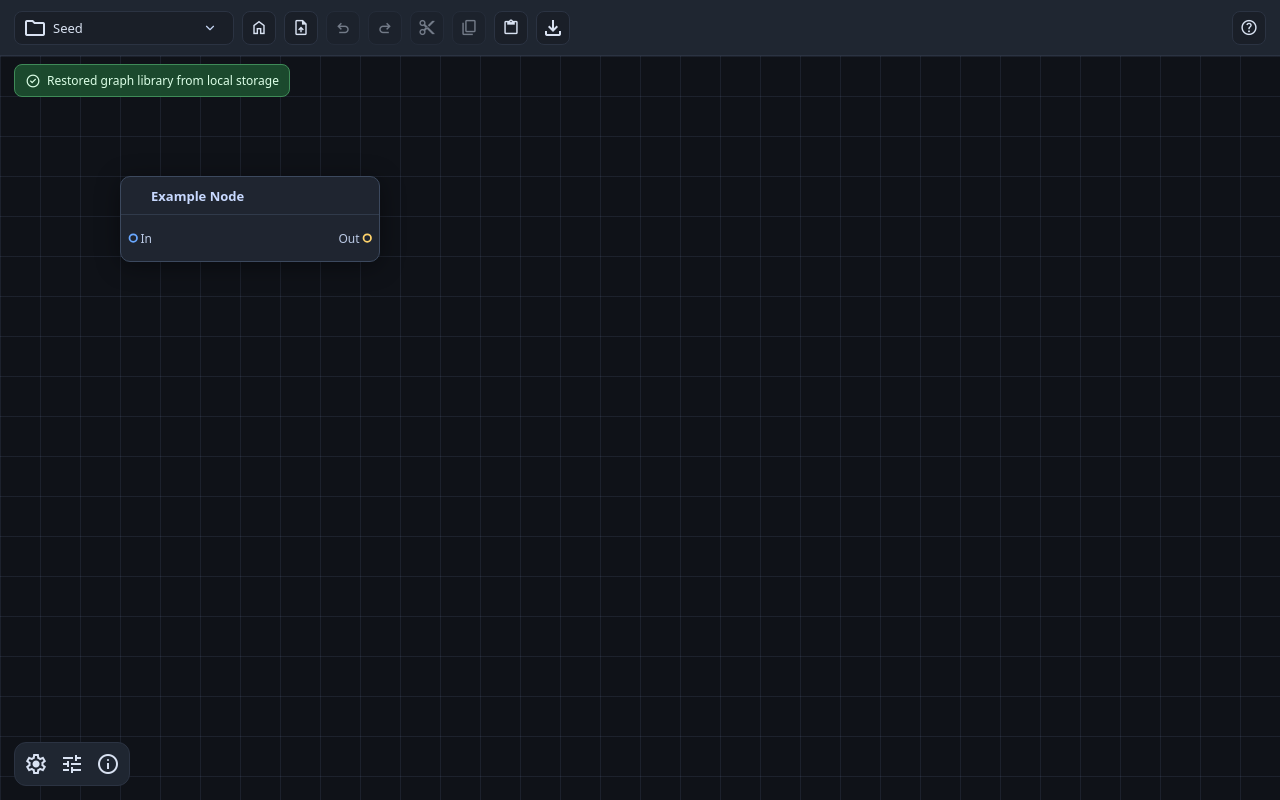
Test: Node picker › filters and places selected preset
Press the mouse on the element with class "canvas-root": x=640, y=428 [0,56,1279,799]
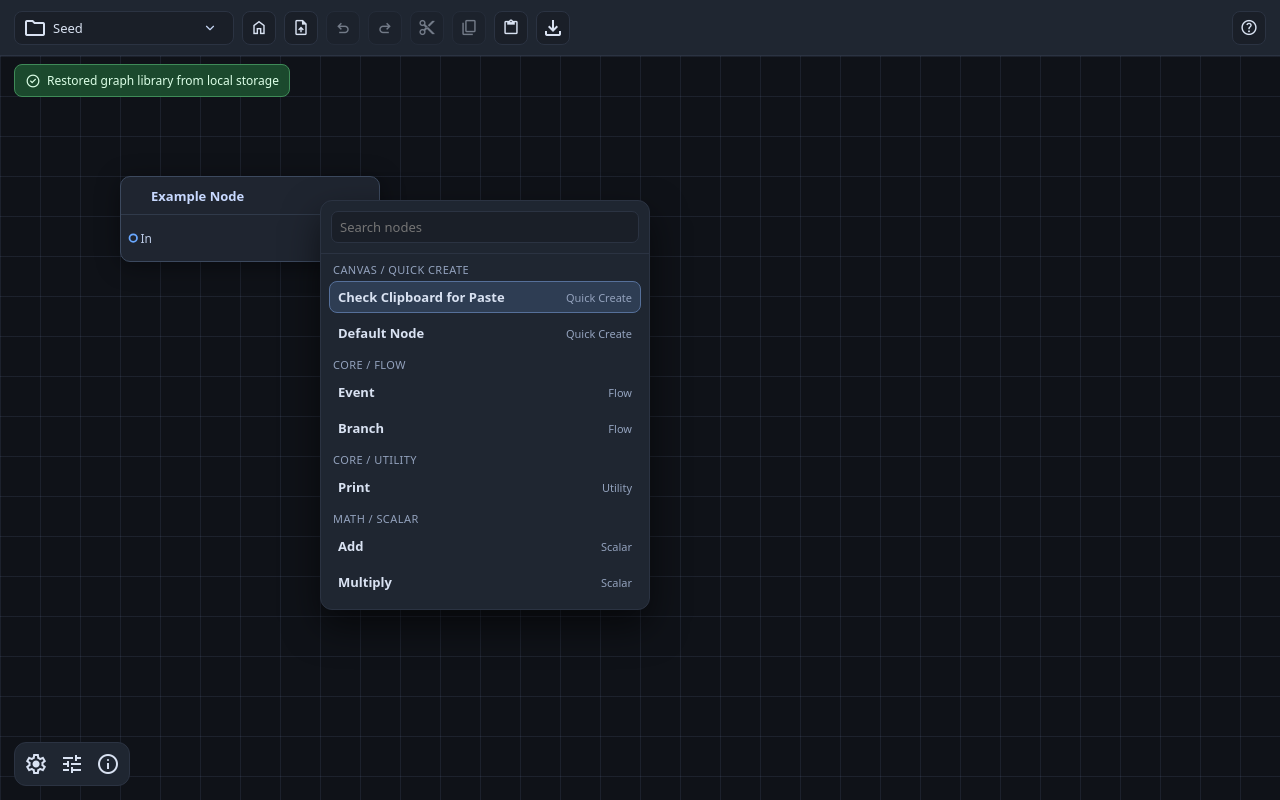
Now the dialog with class "node-picker" is shown, box [320,200,650,610]
In the field labelled "Search nodes": x=485, y=227 [331,211,639,243], type "multiply"
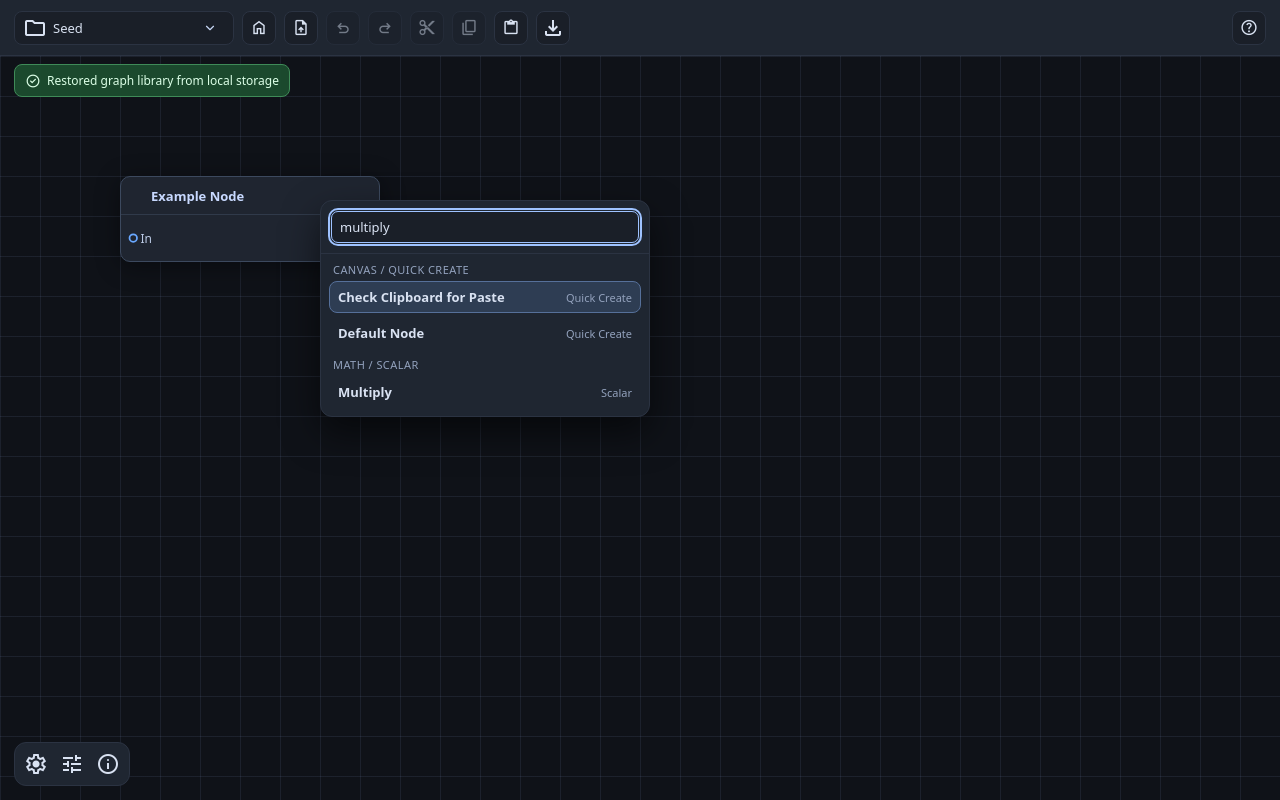
Click the option "Multiply Scalar": x=365, y=392 [329,376,641,408]
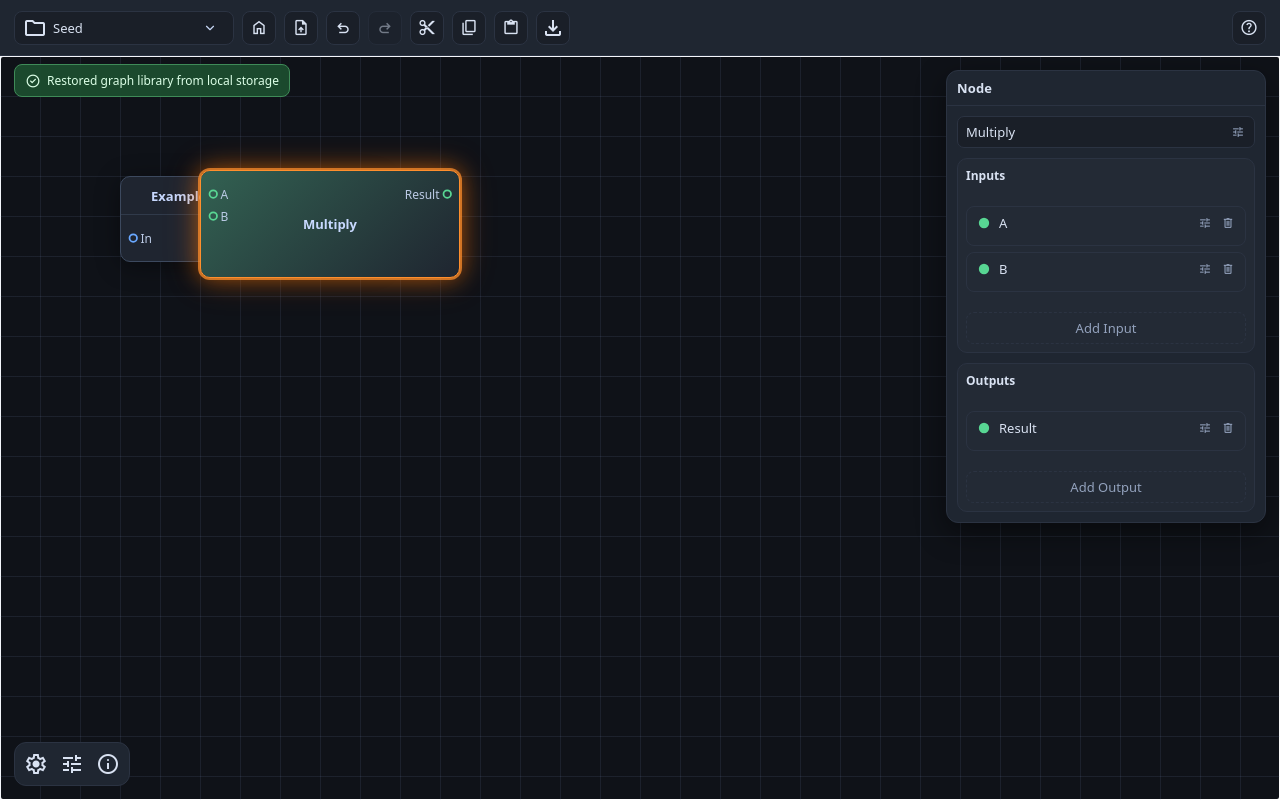
Now the dialog with class "node-picker" is gone
